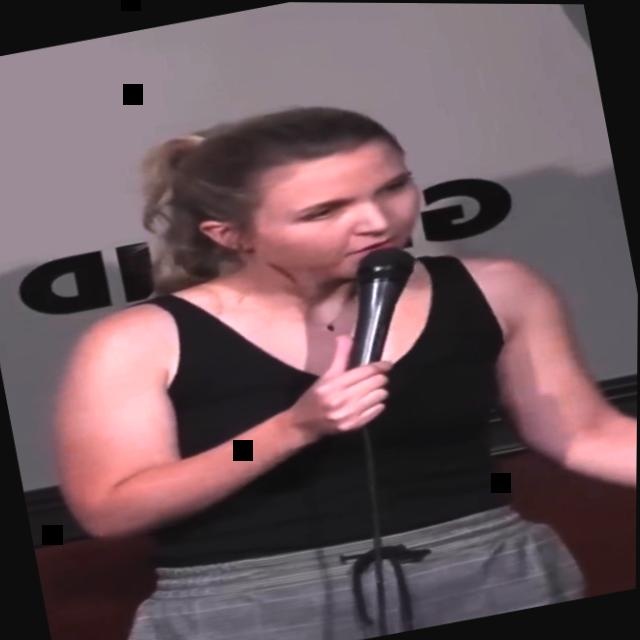NO-Mask: (224, 140, 435, 301)
